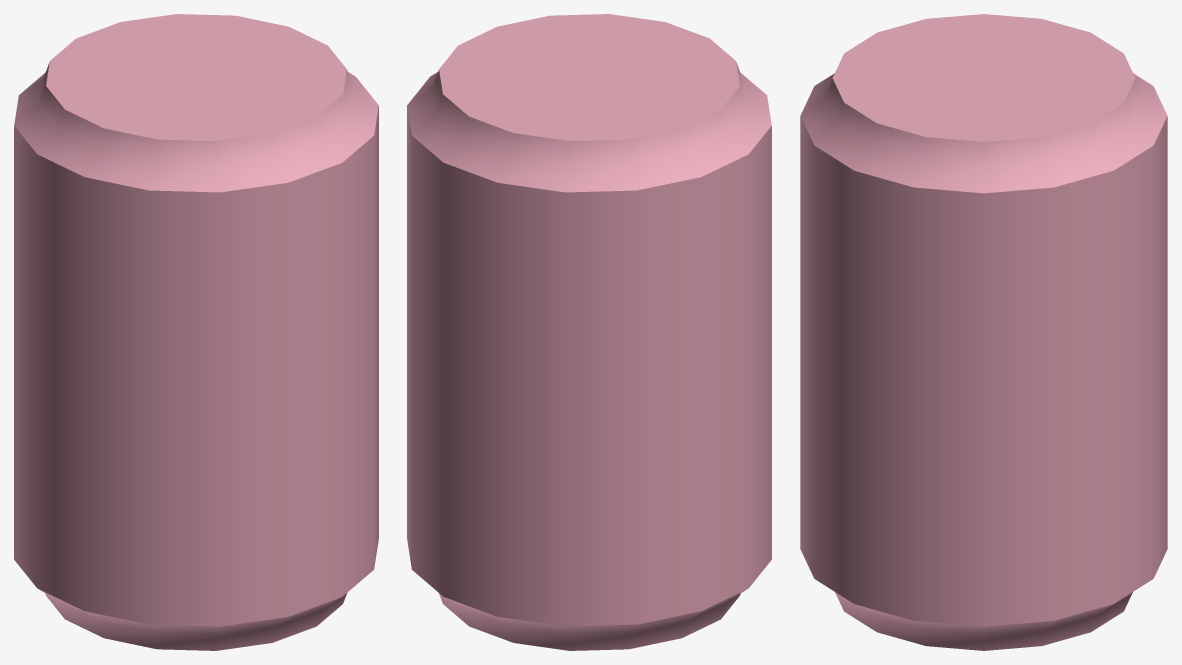
Rendered from Can.fbx.
3 views of the same model, side by side, from view 1: azimuth 30°, elevation 25°; view 2: azimuth 150°, elevation 25°; view 3: azimuth 270°, elevation 25° (orthographic).
Parts seen in each view (by area): view 1: Can; view 2: Can; view 3: Can.
Boxes of the visible parts, x1,y1,x2,y2 form: Can: [14, 14, 378, 650]; Can: [407, 14, 771, 650]; Can: [800, 14, 1167, 650].
Bounding box in the file's own units: 15.95 × 24.39 × 15.95.
